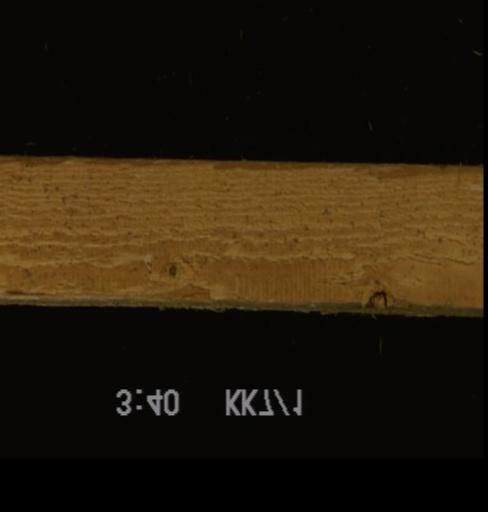dry_knot: (159, 254, 181, 282)
edge_knot: (353, 288, 403, 314)
wave: (214, 160, 482, 174)
